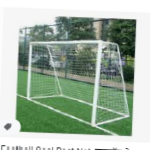goals: (26, 40, 131, 126)
